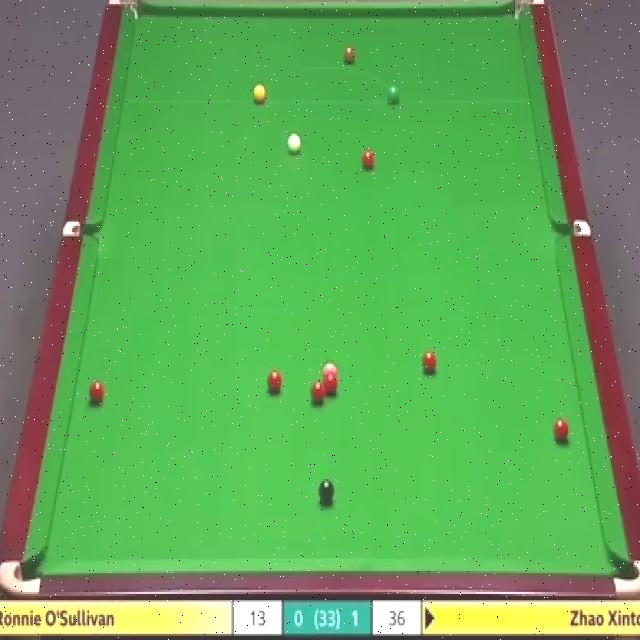black-ball: (318, 478, 335, 504)
brown-ball: (341, 45, 357, 66)
green-ball: (386, 82, 400, 104)
pink-ball: (322, 362, 335, 382)
red-ball: (552, 416, 569, 444), (87, 382, 105, 405), (421, 351, 437, 374), (362, 148, 376, 173), (323, 377, 338, 400), (267, 372, 282, 394), (312, 381, 324, 406)
white-ball: (287, 132, 301, 156)
yellow-ball: (253, 84, 267, 105)
